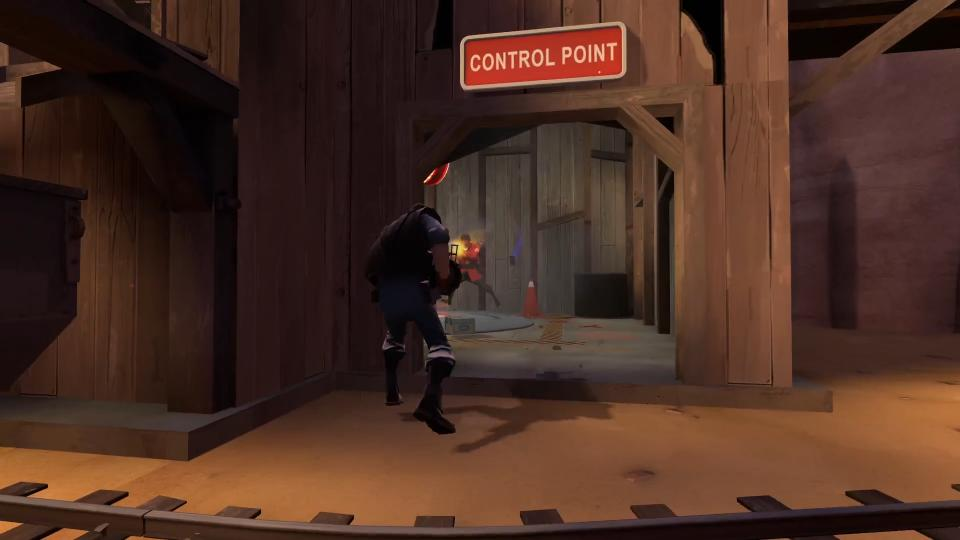Enemy: (361, 199, 463, 437), (441, 233, 501, 306)
